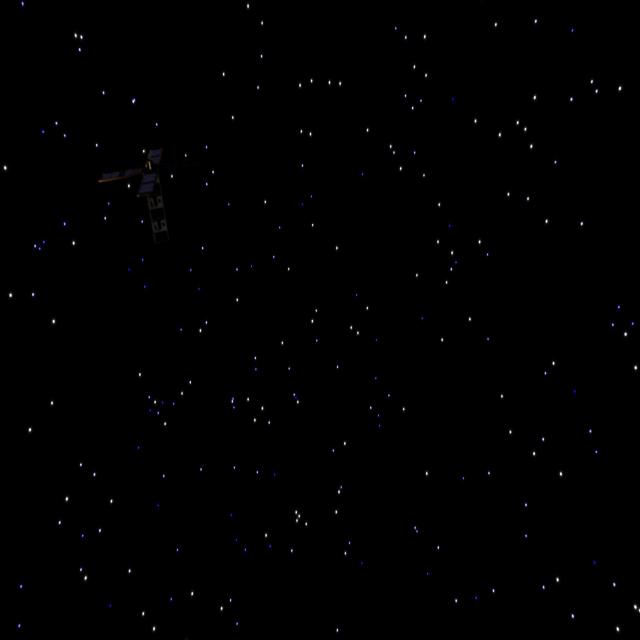satellite: (98, 140, 192, 249)
